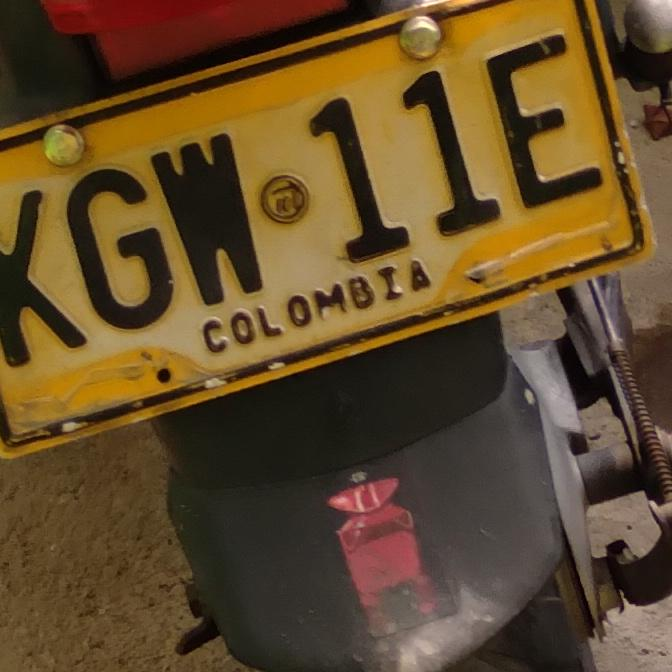plates: (0, 0, 662, 470)
